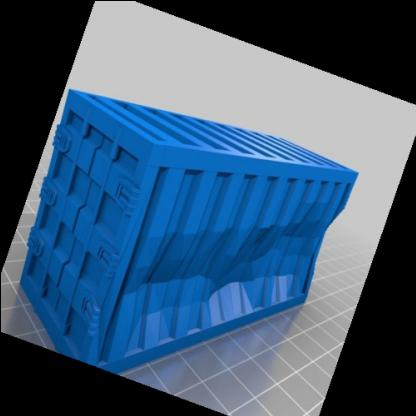Damage: (137, 211, 311, 278)
